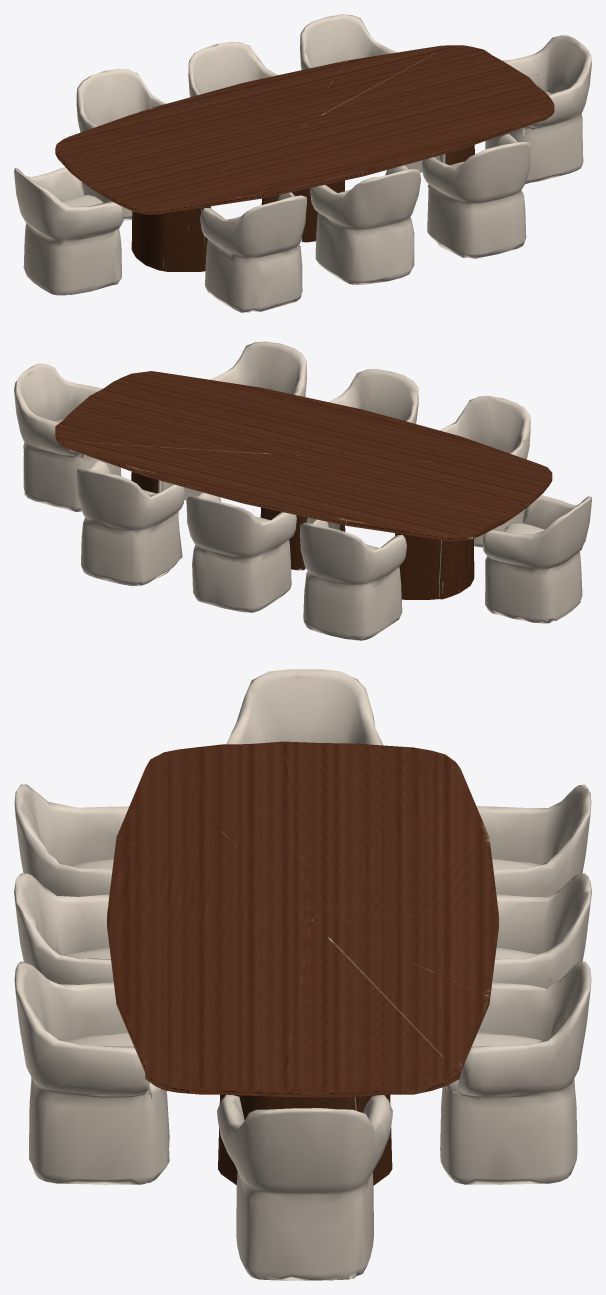
File: table-boardroom.raw.glb
The picture shows the model from 3 angles, top to bottom: view 1: azimuth 30°, elevation 25°; view 2: azimuth 150°, elevation 25°; view 3: azimuth 270°, elevation 25°; orthographic projection. The views are drawn at different scales.
Bounding box in the file's own units: 0.9497 × 0.1875 × 0.5259.
1 material, 1 textured.
